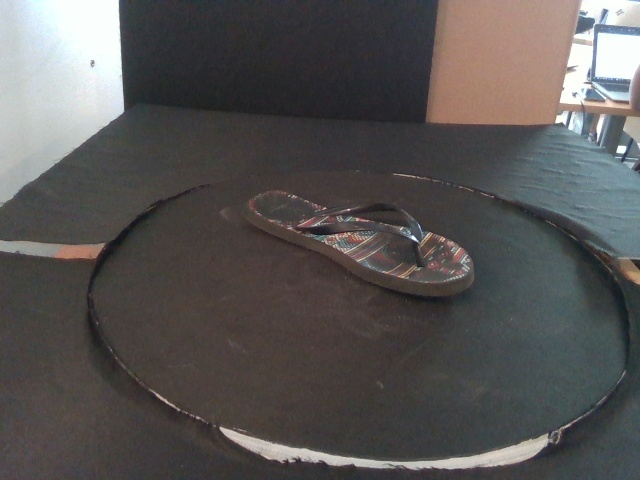shoe: (244, 190, 475, 296)
